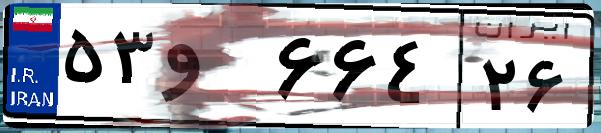2: (475, 38, 525, 113)
3: (110, 28, 158, 98)
4: (385, 28, 445, 110)
5: (57, 26, 110, 100)
6: (270, 28, 330, 110), (330, 28, 385, 110), (525, 38, 570, 115)
و: (158, 20, 270, 120)
